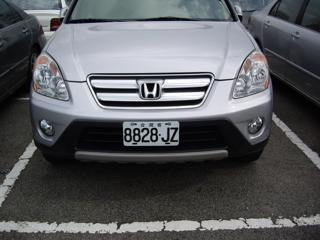plate: (121, 119, 180, 148)
